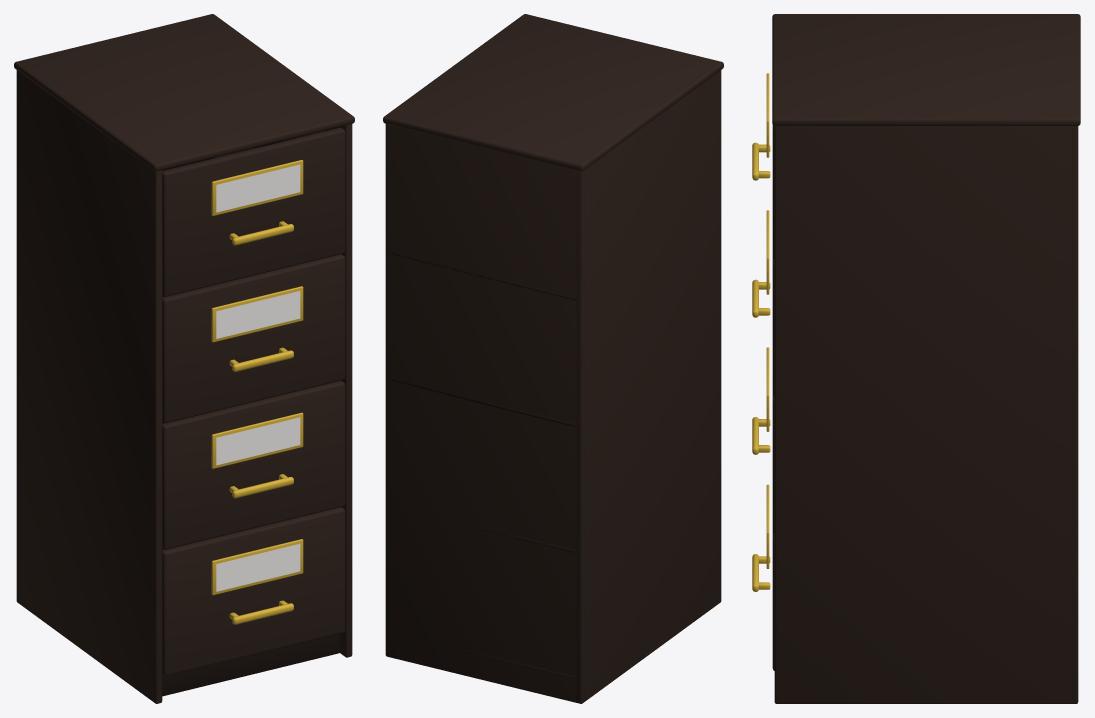
File: filing-cabinet.glb
3 renders of one model, left to right at view 1: azimuth 30°, elevation 25°; view 2: azimuth 150°, elevation 25°; view 3: azimuth 270°, elevation 25°, orthographic. The views are drawn at different scales.
Visible parts, largest first — view 1: Body_Left, Body_Top, Drawer_0_Front, Drawer_1_Front, Drawer_2_Front, Drawer_3_Front, Body_Right, Body_Plinth, Label_2, Label_0, Label_1, Label_3 (+9 smaller); view 2: Body_Back, Body_Left, Body_Top, Body_Right, Body_Rail_1, Body_Rail_0; view 3: Body_Right, Body_Top, Body_Back.
Boxes of the visible parts, x1,y1,x2,y2 form: Body_Left: (17,72,162,703); Body_Top: (14,14,354,171); Drawer_0_Front: (162,127,345,296); Drawer_1_Front: (162,254,345,423); Drawer_2_Front: (162,380,345,549); Drawer_3_Front: (162,507,345,675); Body_Right: (323,124,352,657); Body_Plinth: (162,634,339,696); Label_2: (216,417,300,465); Label_0: (216,164,300,212); Label_1: (216,291,300,338); Label_3: (216,544,300,591); Body_Back: (385,124,584,703); Body_Left: (576,70,721,703); Body_Top: (383,14,723,171); Body_Right: (385,124,390,655); Body_Rail_1: (392,379,575,426); Body_Rail_0: (392,253,575,300); Body_Right: (774,126,1078,703); Body_Top: (772,14,1080,125); Body_Back: (1071,126,1078,703).
Size of the model in its own units: 0.53 by 1.36 by 0.692.
